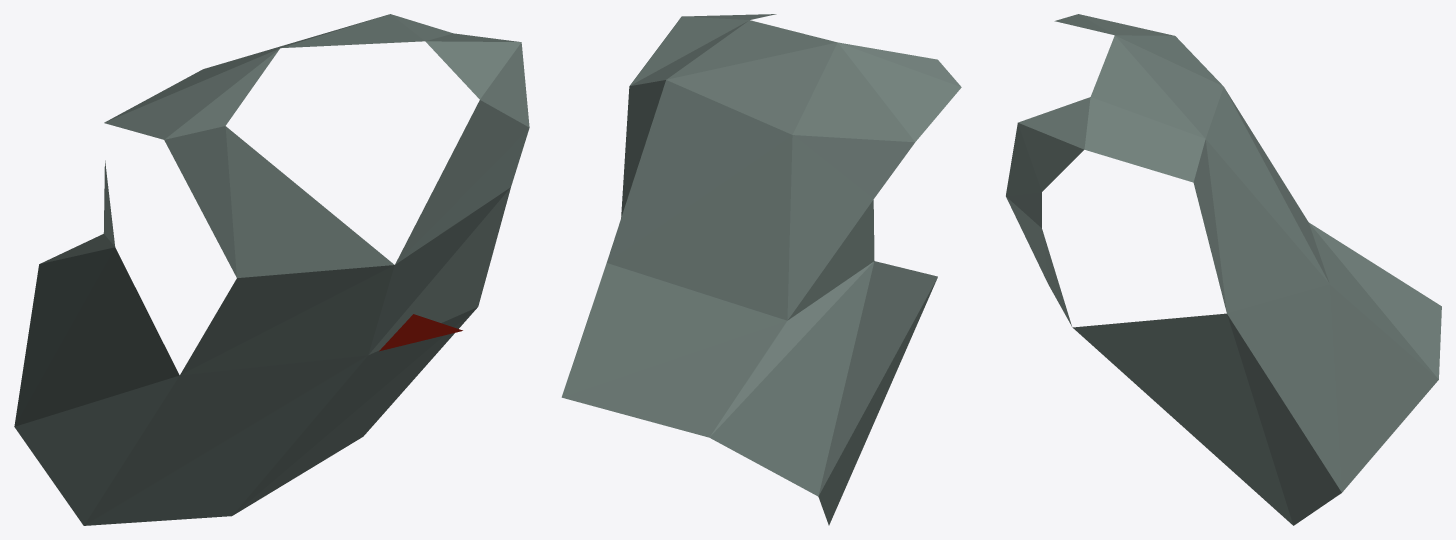
3 renders of one model, left to right at view 1: azimuth 30°, elevation 25°; view 2: azimuth 150°, elevation 25°; view 3: azimuth 270°, elevation 25°, orthographic. The views are drawn at different scales.
Bounding box in the file's own units: 0.4875 × 0.7071 × 0.6593.
Materials: 2 (2 with a texture image).
